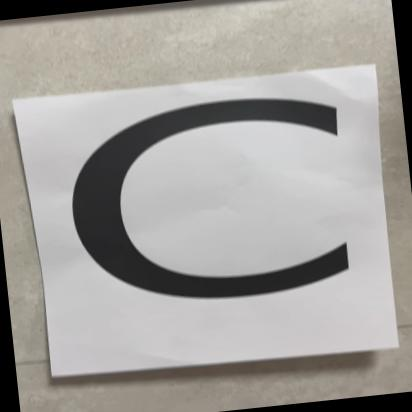seat: (0, 42, 412, 390)
